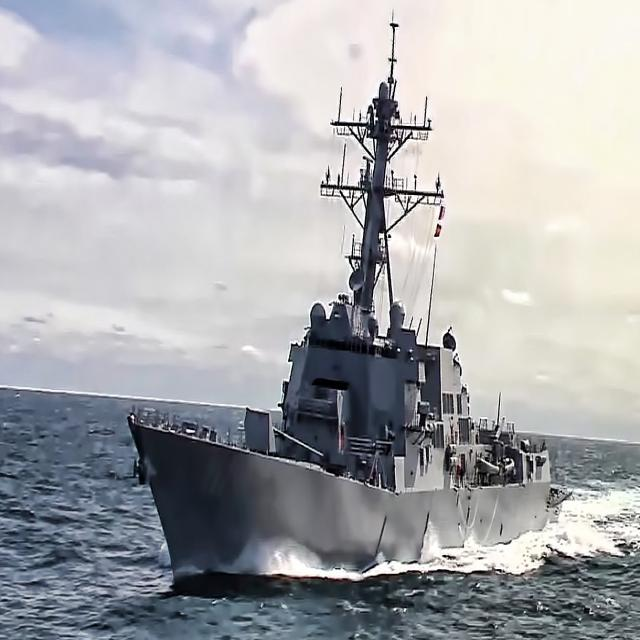navalvessels: (121, 27, 572, 582)
